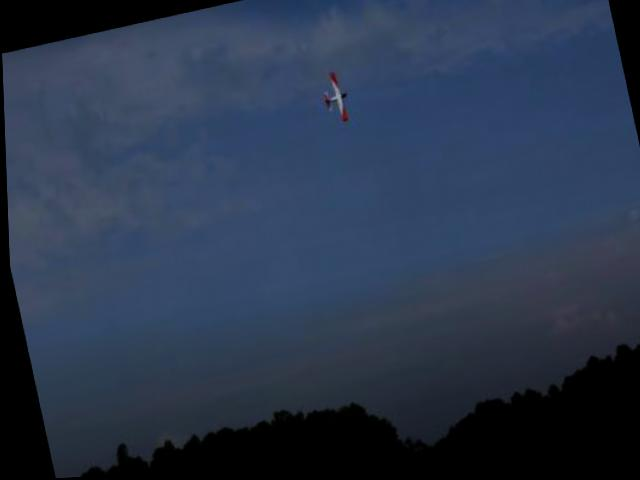uav: (311, 63, 359, 134)
